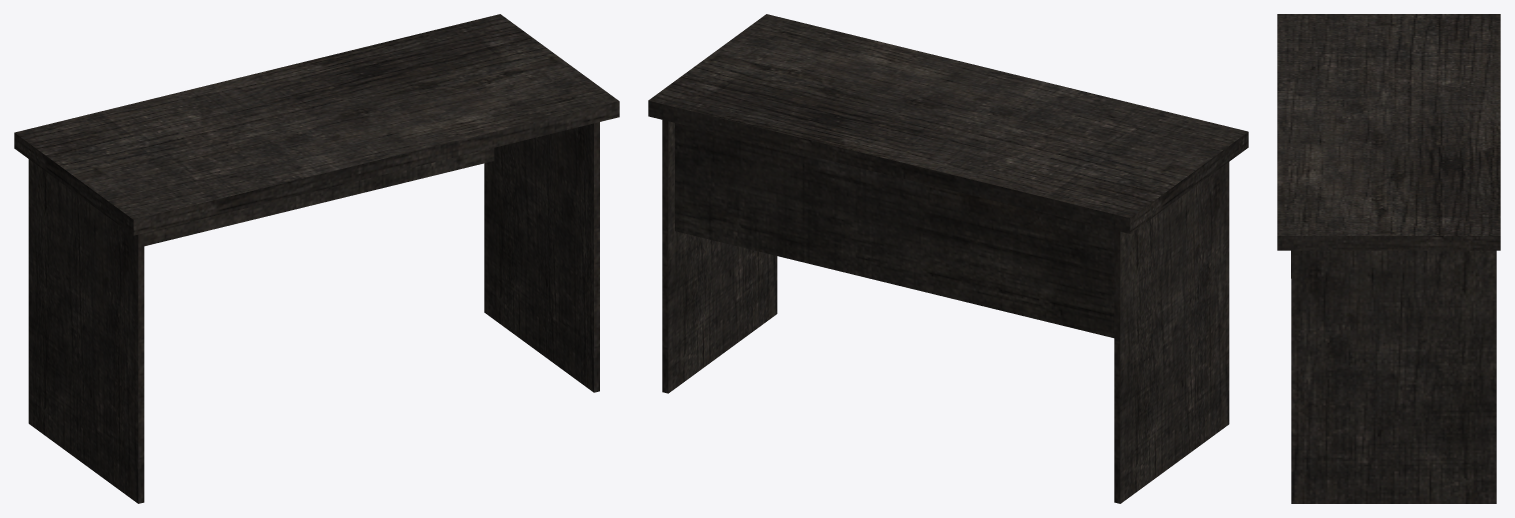
The model's file is table_large_3.obj.
The picture shows the model from 3 angles, left to right: view 1: azimuth 30°, elevation 25°; view 2: azimuth 150°, elevation 25°; view 3: azimuth 270°, elevation 25°; orthographic projection. The views are drawn at different scales.
Parts seen in each view (by area): view 1: table_large_3; view 2: table_large_3; view 3: table_large_3.
Part boxes in pixels (x1,y1,x2,y2): table_large_3: [14, 14, 619, 503]; table_large_3: [648, 14, 1248, 503]; table_large_3: [1277, 14, 1500, 503].
Bounding box in the file's own units: 1.6 × 0.92 × 0.68.
